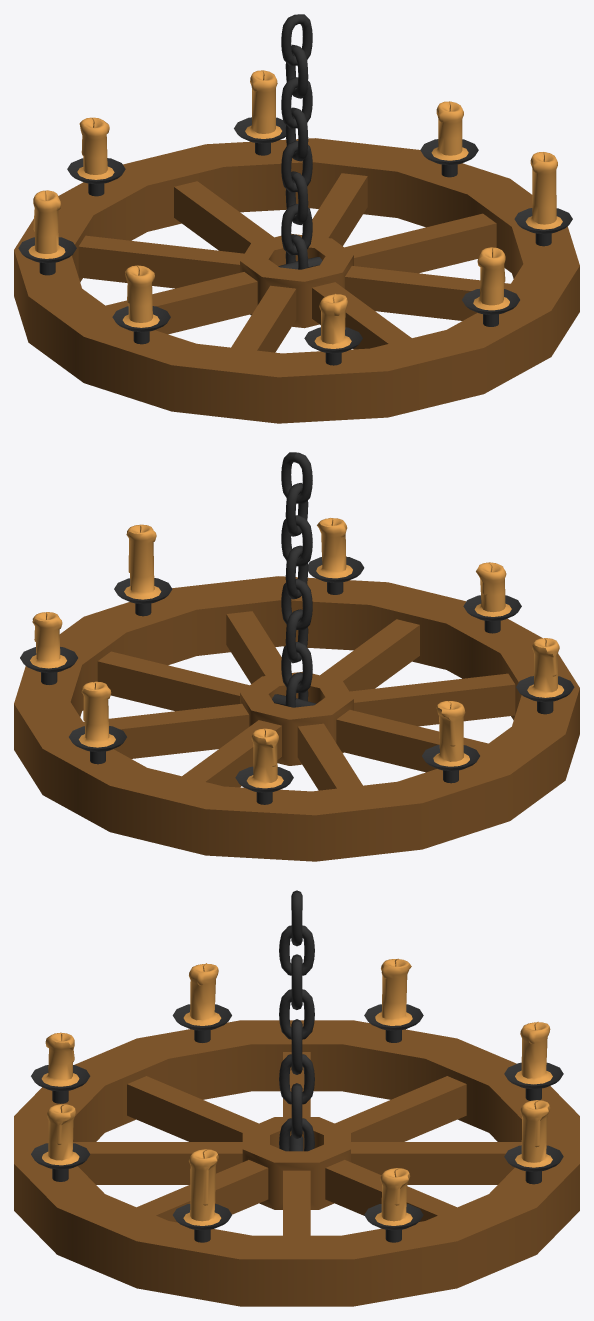
Rendered from decor_chandelier.fbx.
The picture shows the model from 3 angles, top to bottom: view 1: azimuth 30°, elevation 25°; view 2: azimuth 150°, elevation 25°; view 3: azimuth 270°, elevation 25°; orthographic projection.
Parts seen in each view (by area): view 1: decor_chandelier; view 2: decor_chandelier; view 3: decor_chandelier.
Boxes of the visible parts, bbox=[...] form: decor_chandelier: bbox=[14, 14, 579, 423]; decor_chandelier: bbox=[14, 452, 579, 861]; decor_chandelier: bbox=[14, 890, 579, 1306].
Size of the model in its own units: 128 by 73.46 by 128.
